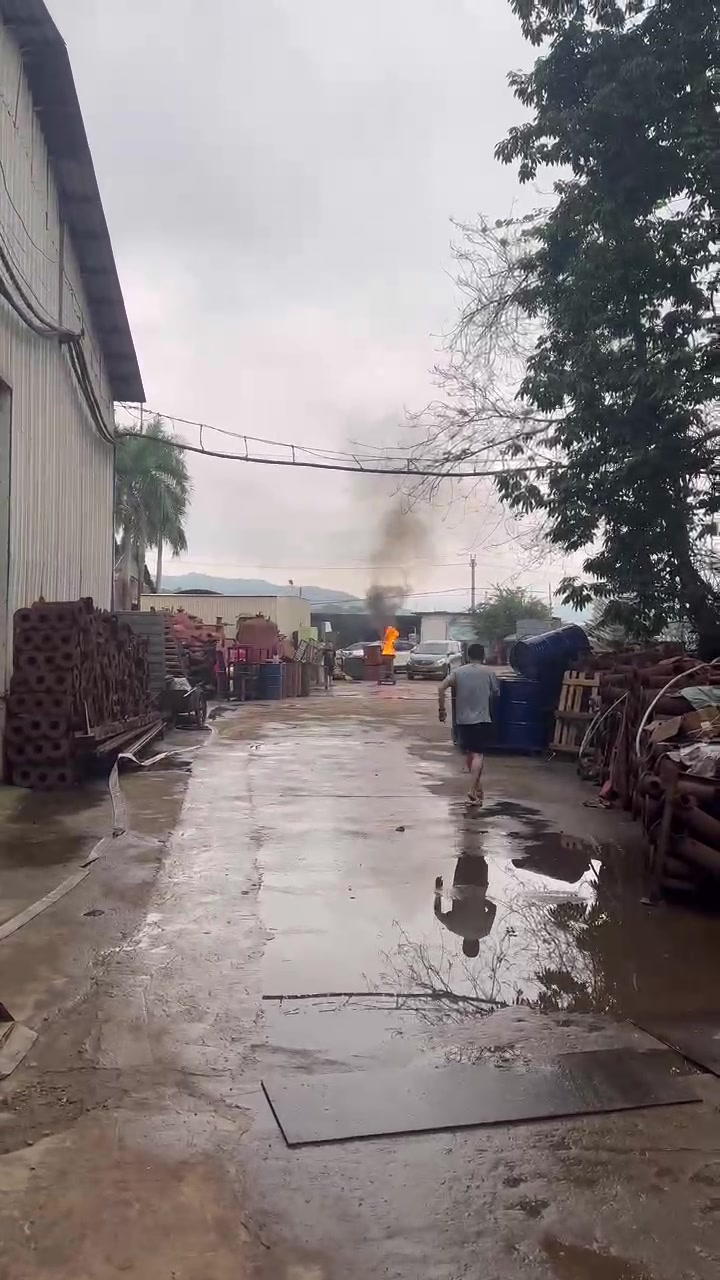fire: (381, 626, 399, 654)
